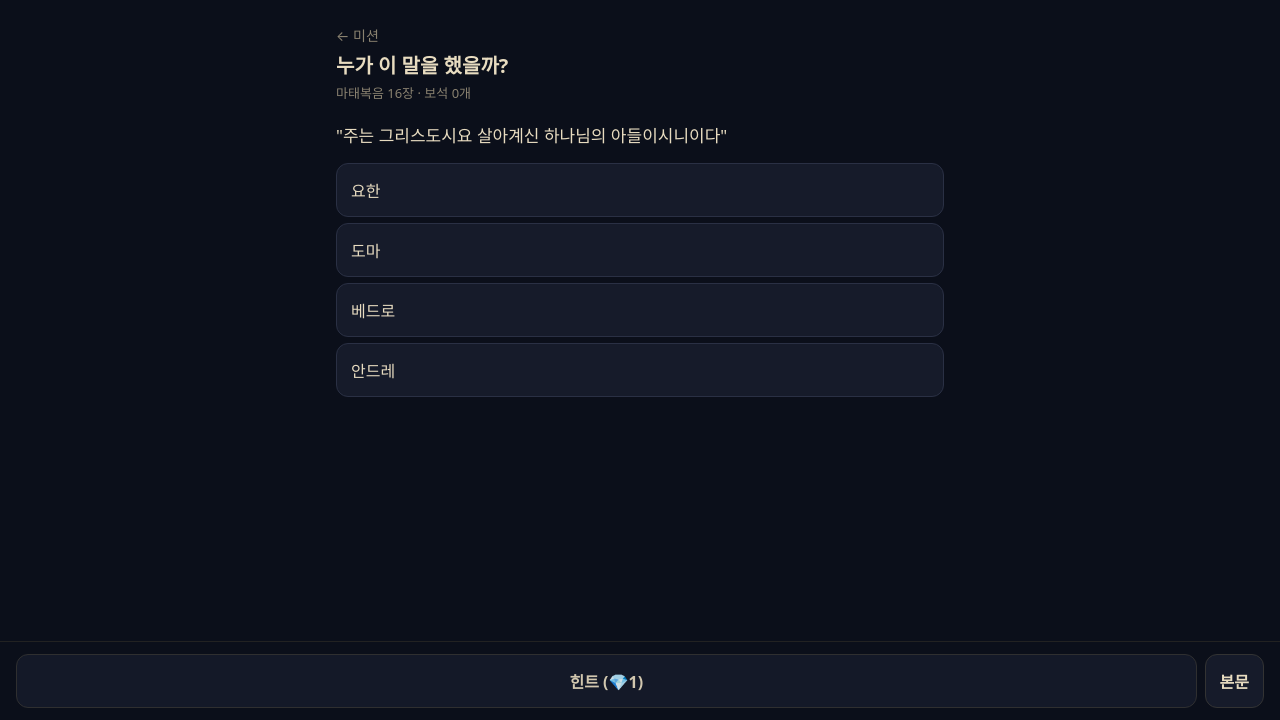
Scenario: quiz: wrong shows verse hint, right clears mission
Click the button "요한" at [366, 191], box [336,163,944,217]
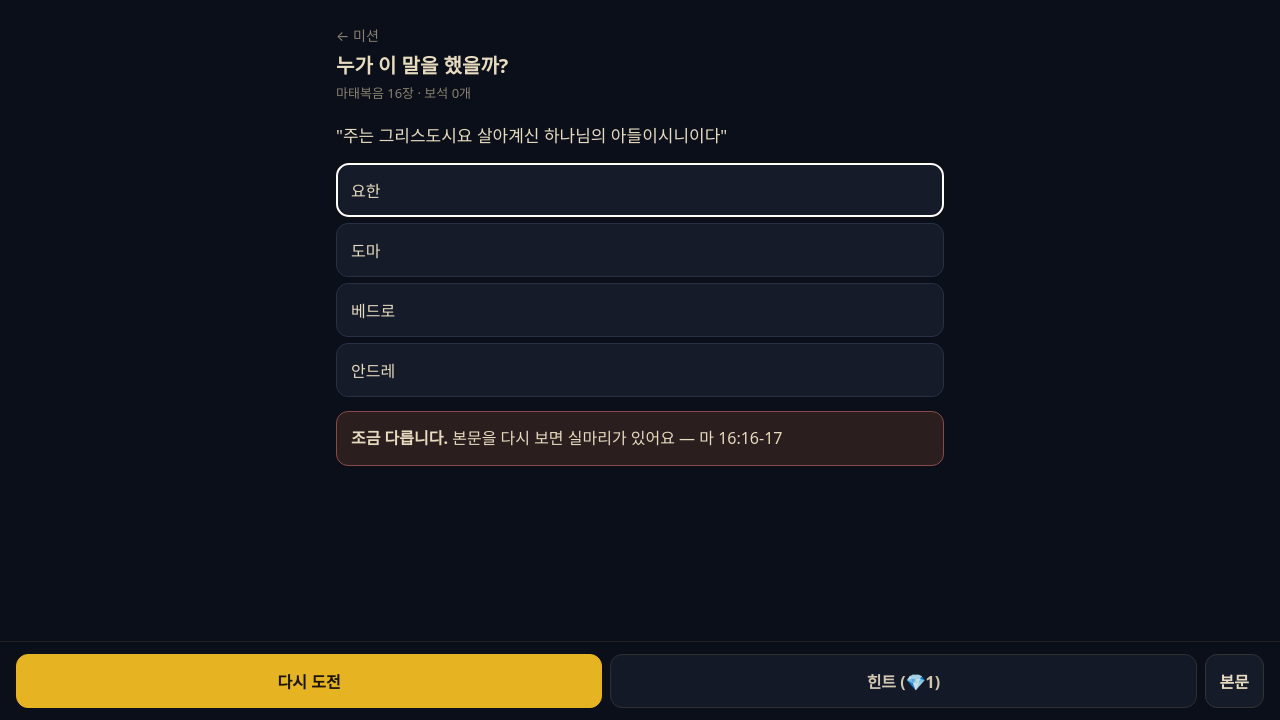
expect the message shows "마 16:16": met, box [699,427,782,449]
Click the button "다시 도전" at [309, 681], box [16,654,602,708]
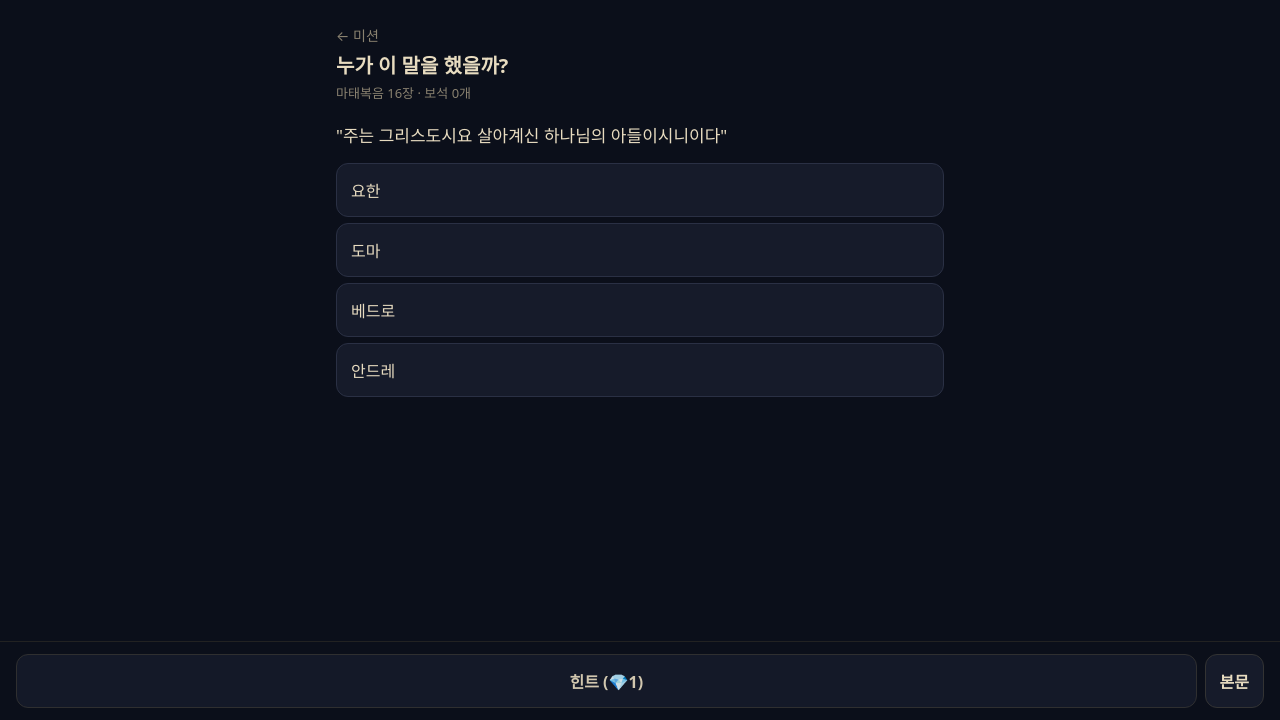
Click the button "베드로" at [373, 311], box [336,283,944,337]
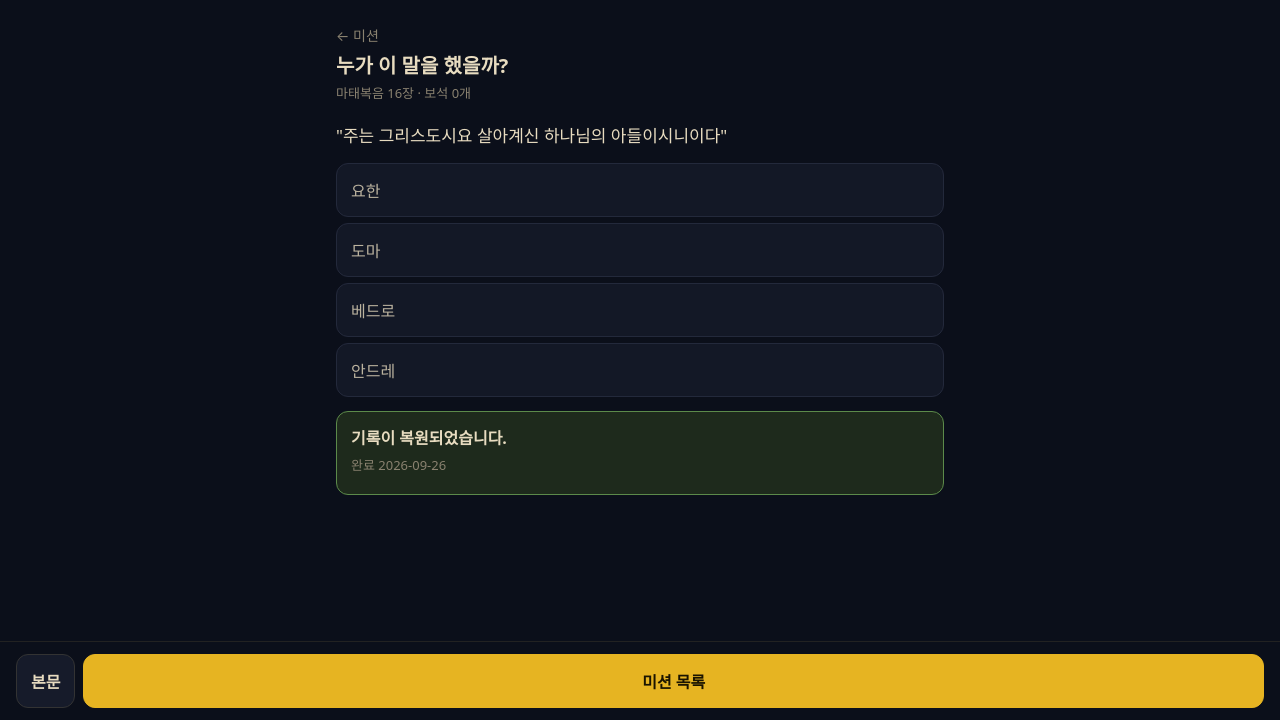
expect the message shows "기록이 복원": met, box [351,427,507,449]
